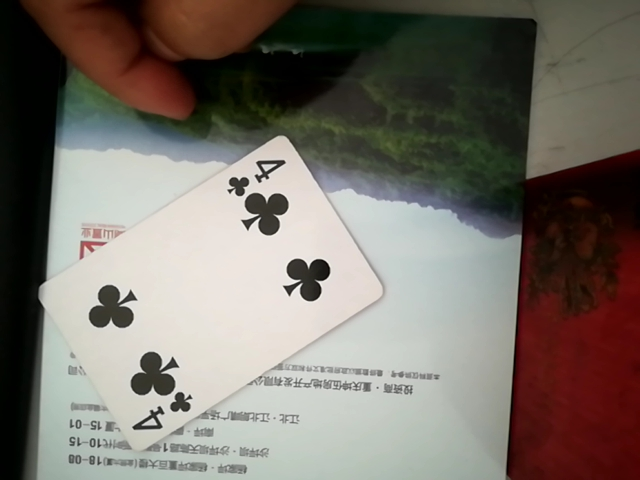mh 4: (47, 129, 386, 442)
